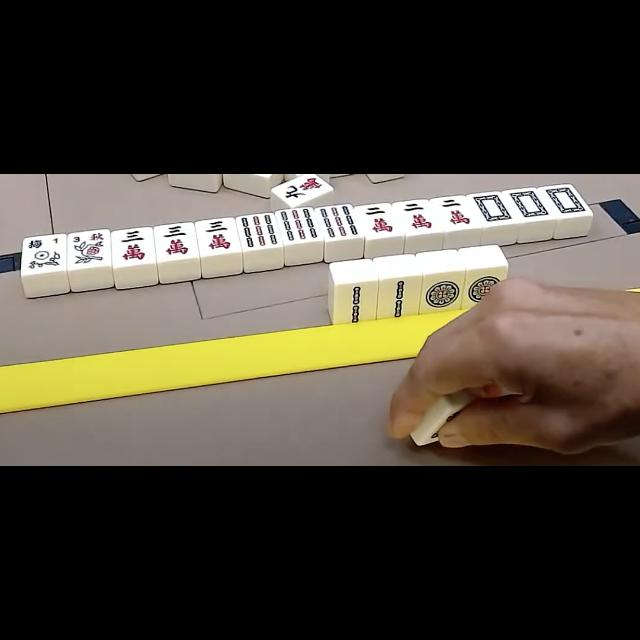b2: (335, 283, 377, 323), (380, 278, 420, 318)
b9: (239, 214, 279, 250), (320, 204, 360, 240), (279, 208, 319, 242)
c2: (361, 205, 399, 238), (436, 197, 474, 230), (398, 202, 436, 234)
c3: (112, 229, 154, 265), (157, 224, 196, 260), (198, 220, 238, 254)
c9: (278, 176, 328, 206)
d1: (422, 272, 463, 314), (466, 270, 500, 306)
dw: (546, 185, 586, 217), (508, 189, 546, 221), (472, 193, 510, 225)
f1: (21, 236, 65, 250)
s3: (67, 231, 109, 245)
